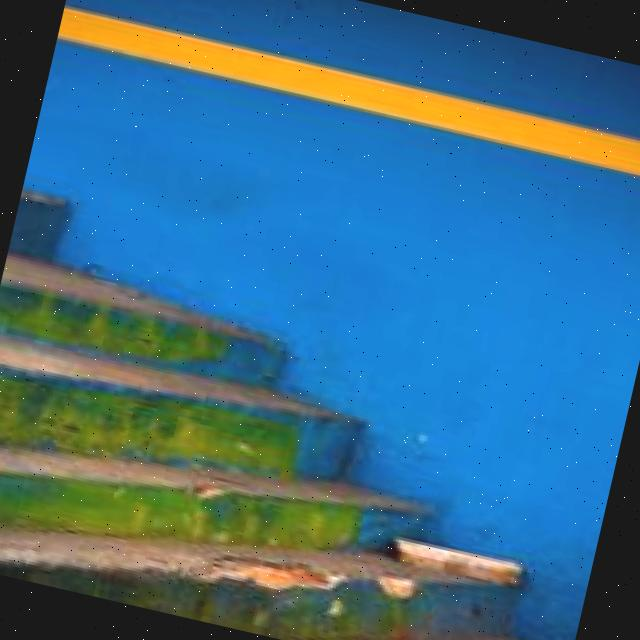stairs: (0, 164, 624, 640)
